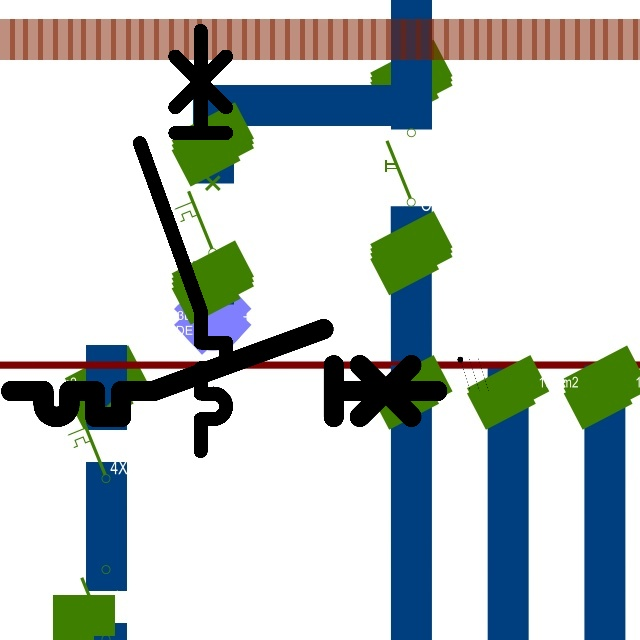interruptor_termomagnetico: (0, 318, 449, 428), (129, 20, 237, 462)
